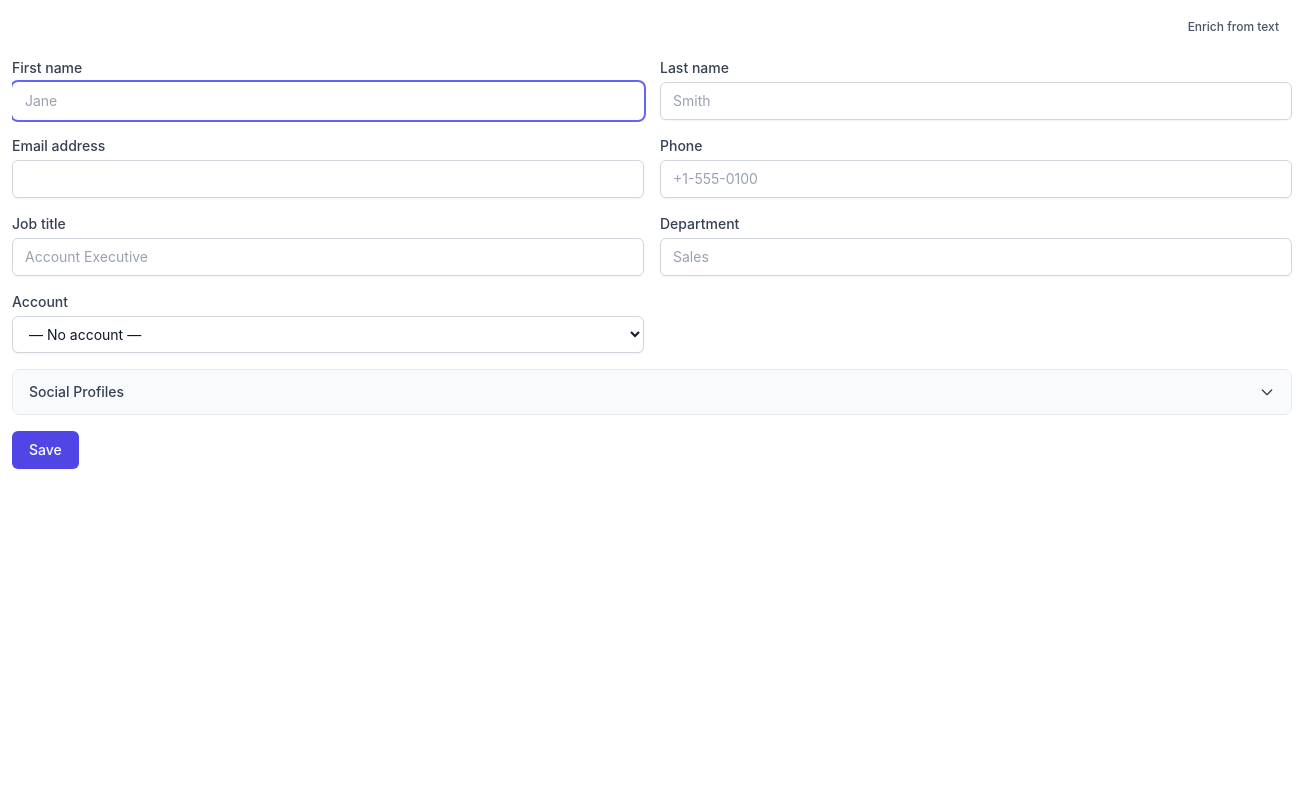
ContactForm › social URL auto-prepend › prepends https:// to linkedin_url on blur when no protocol present
Step 1. Click the button with test id "contact-social-toggle" → (77, 392), box [13, 370, 1291, 414]
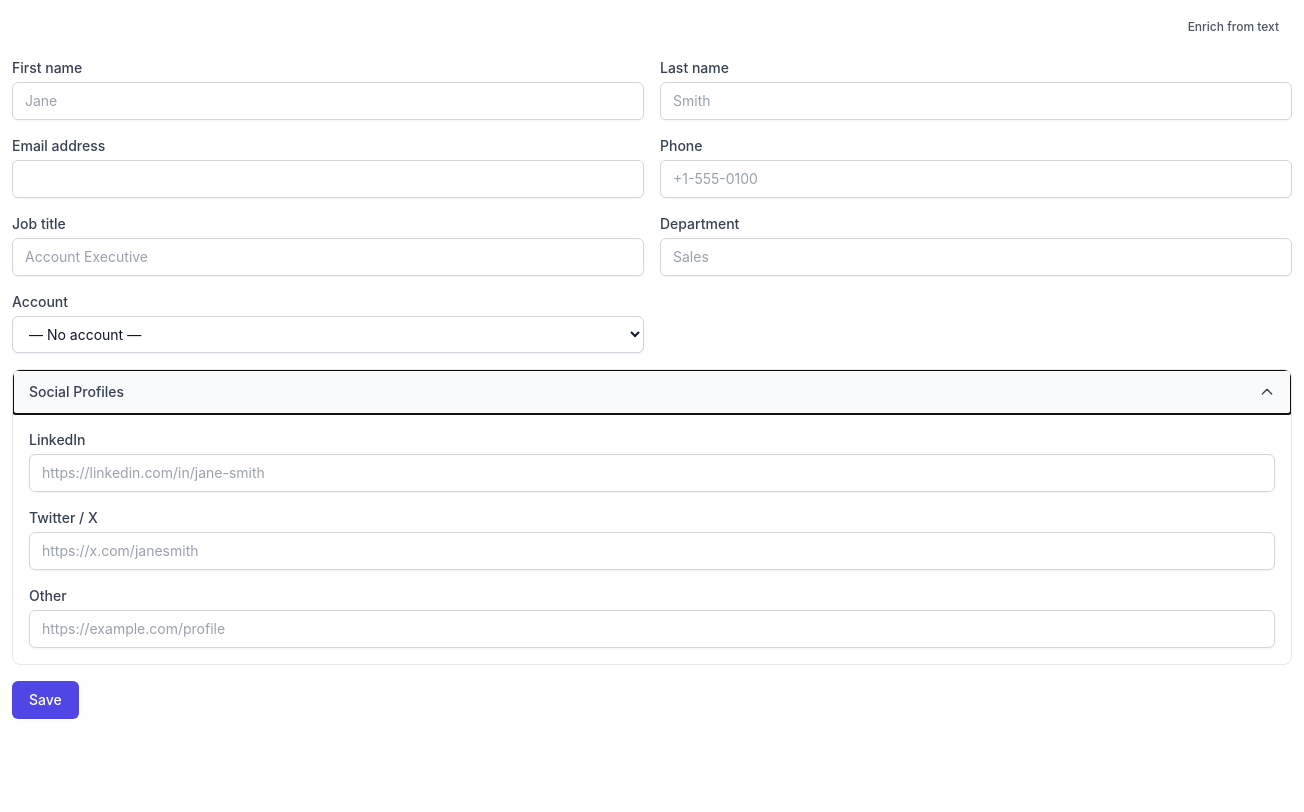
Step 2. Type "linkedin.com/in/jane" into the field with test id "contact-linkedin-url" → (652, 473), box [29, 454, 1275, 492]
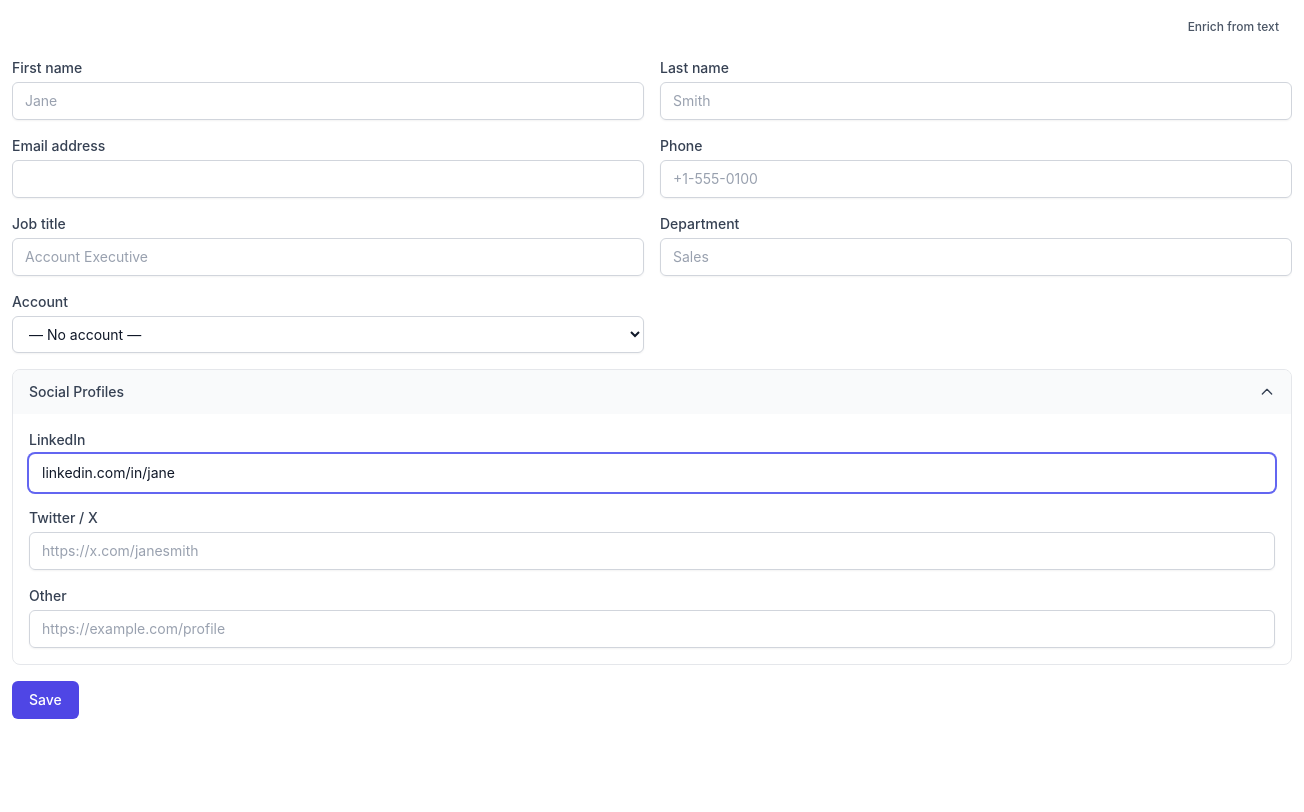
Step 3. Leave the field with test id "contact-linkedin-url", box [29, 454, 1275, 492]
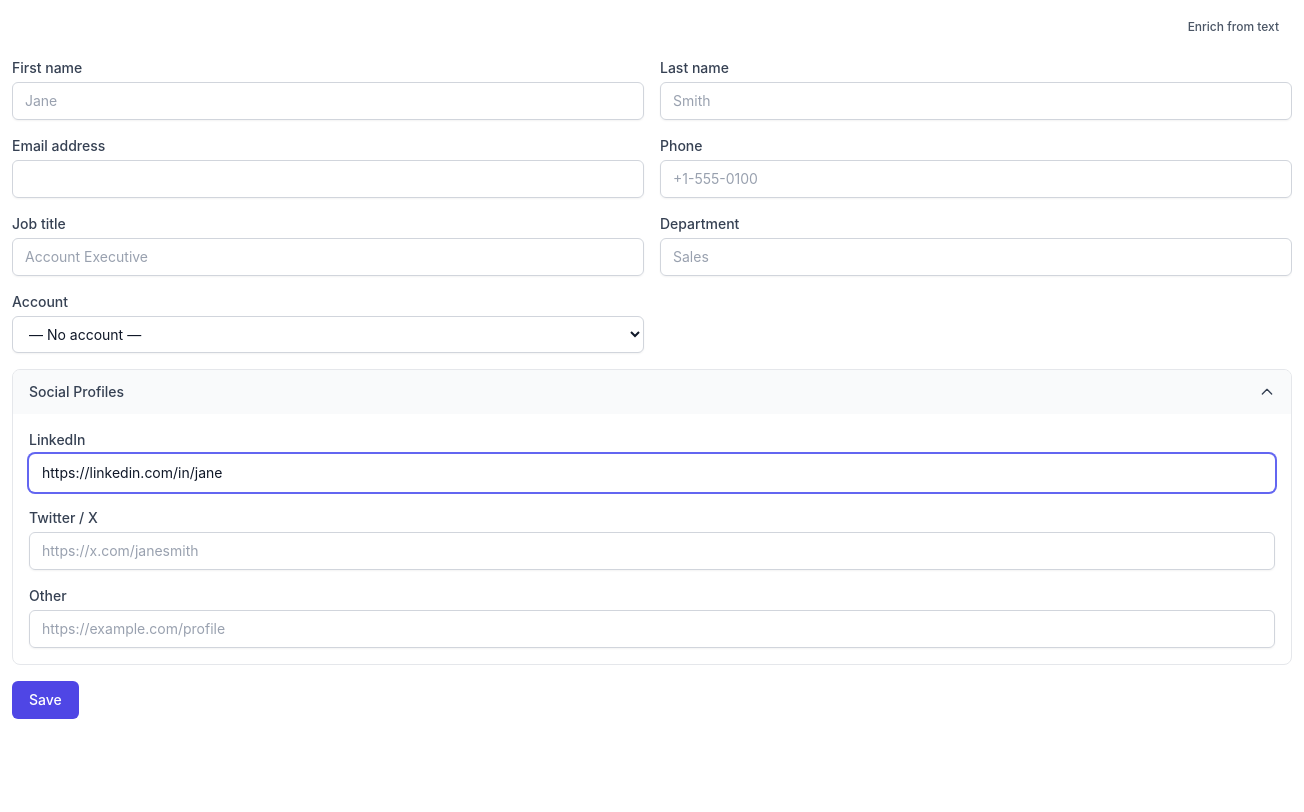
Result: the field with test id "contact-linkedin-url" holds "https://linkedin.com/in/jane" at [29, 454, 1275, 492]
